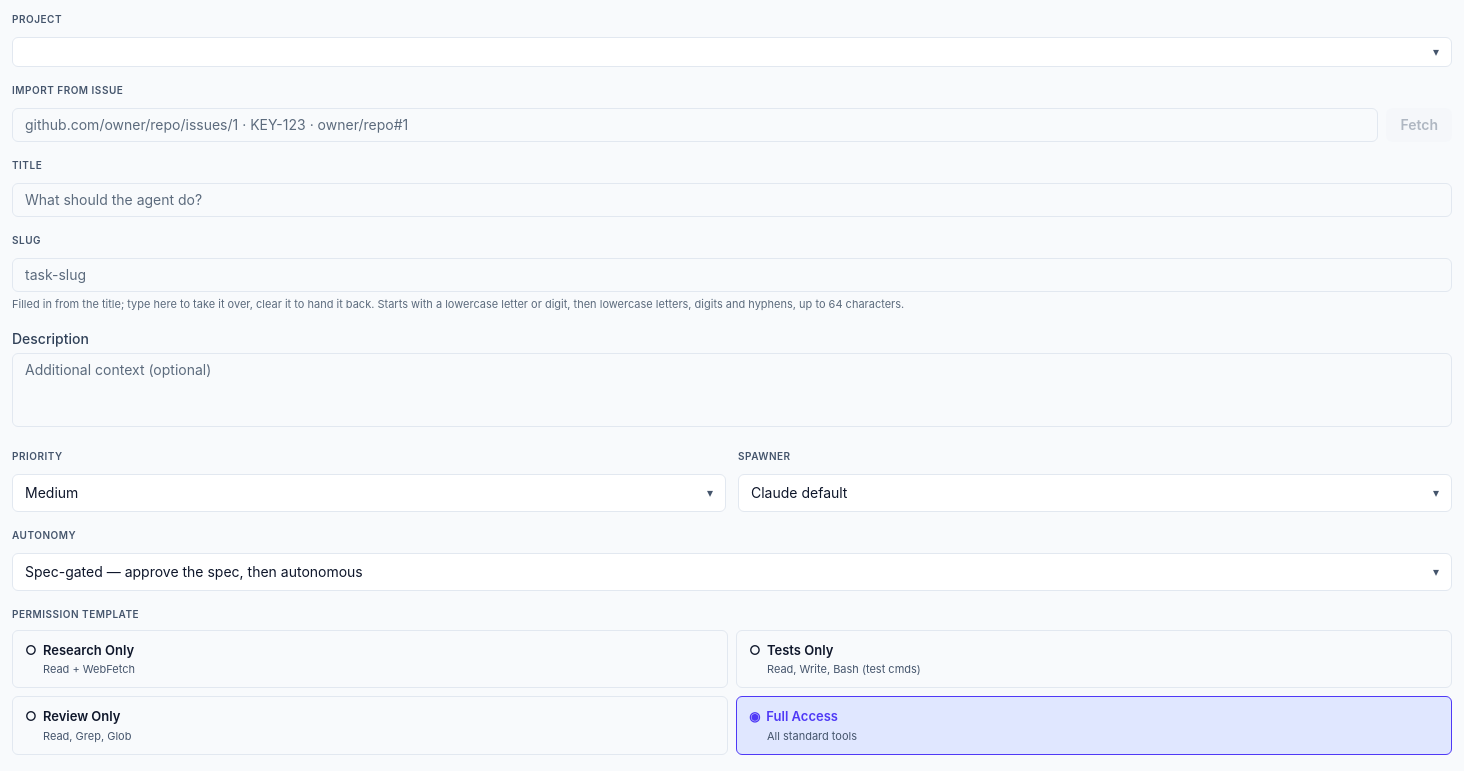
backlogForm single-screen › expands QuickCreateProjectPanel when "+ Create new project" is selected
Click the dropdown with test id "backlog-project-select": click(1436, 52) [12,37,1452,67]
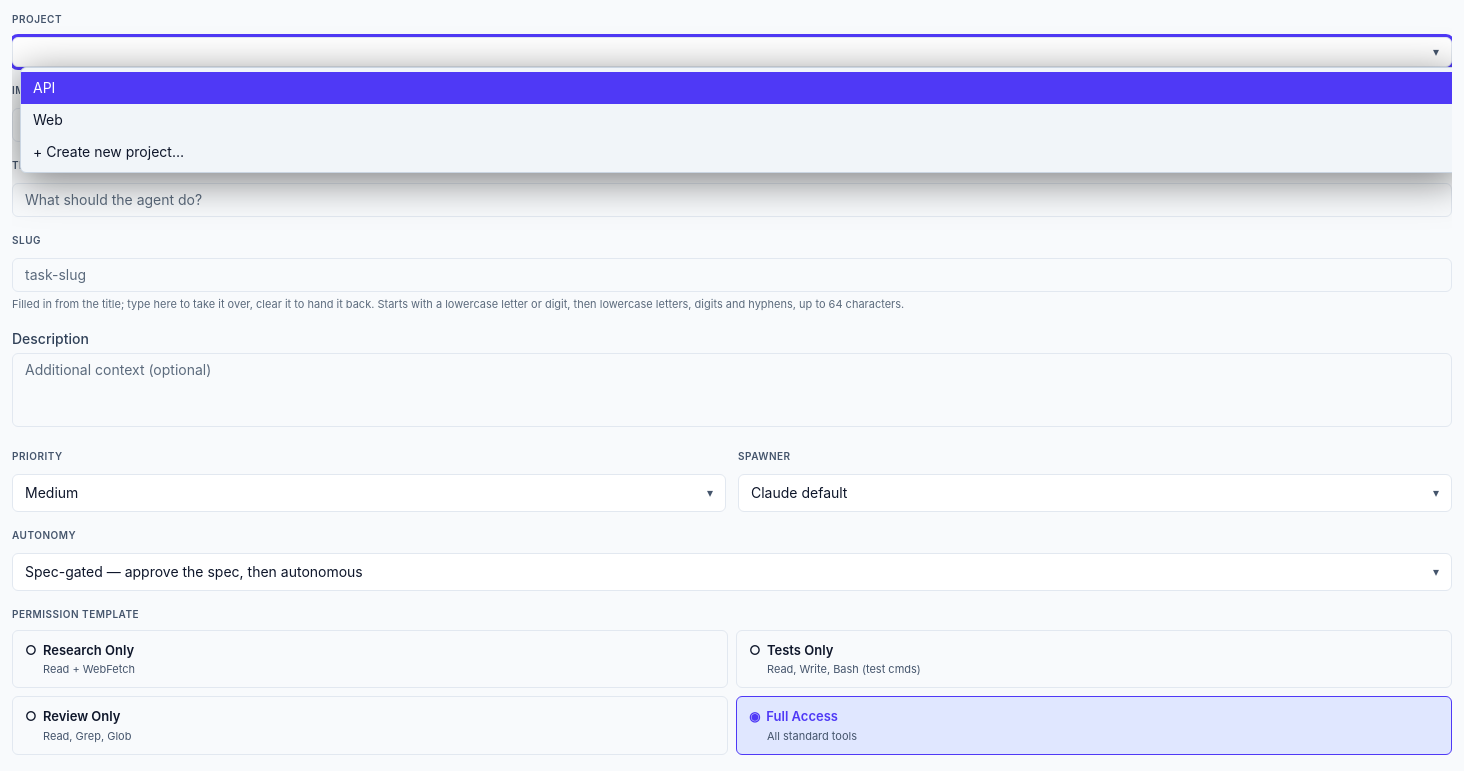
Click the option "+ Create new project…": click(108, 152) [33,143,184,160]
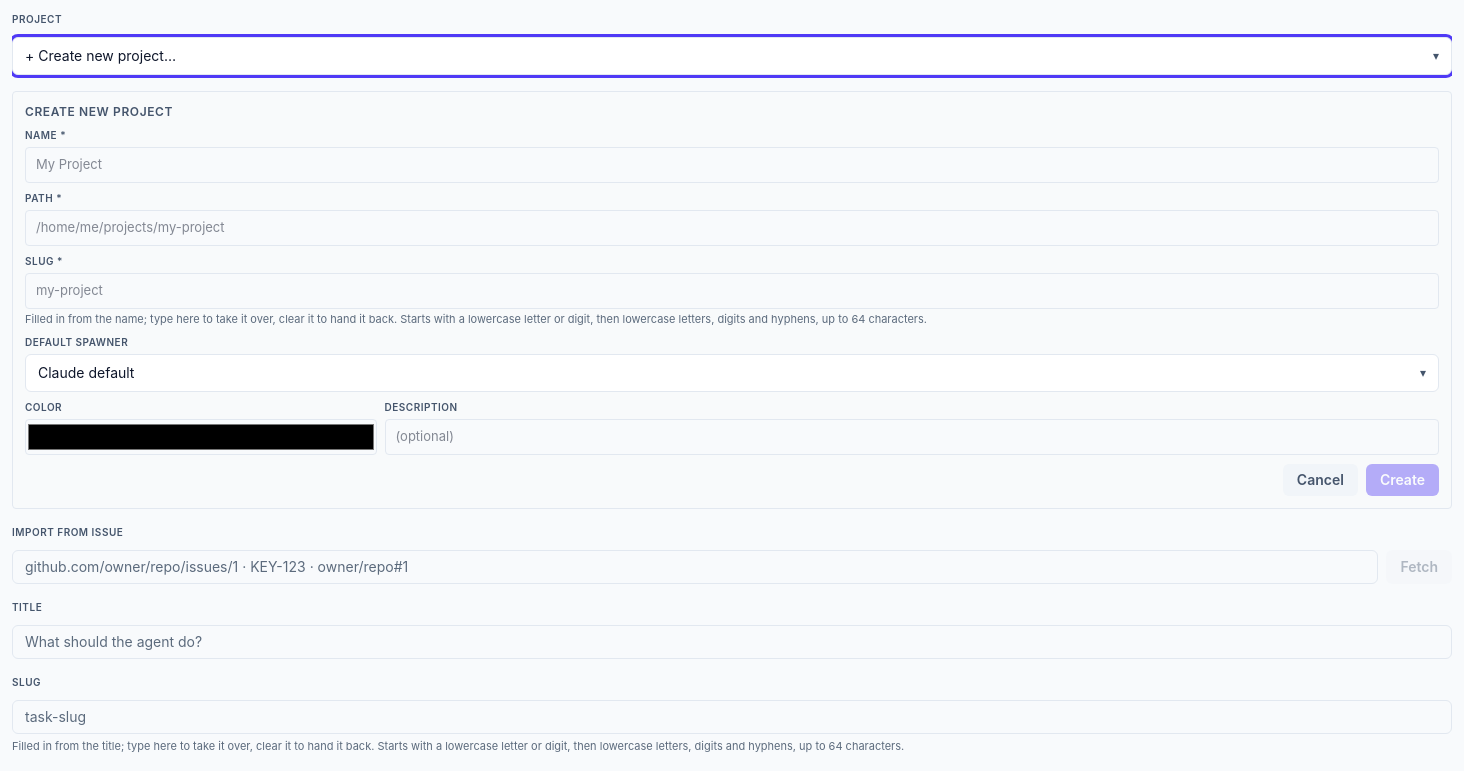
Expected: the element that starts with "Create new project" is shown, [12,91,1452,509]
